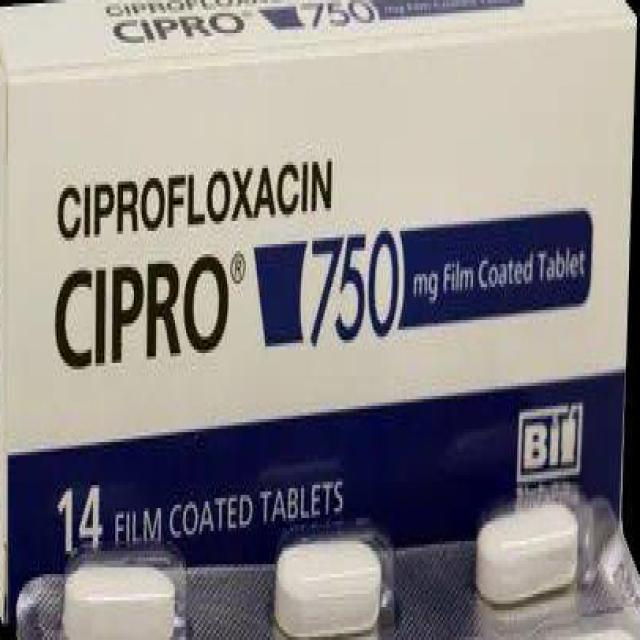drug-name: (45, 249, 231, 376)
